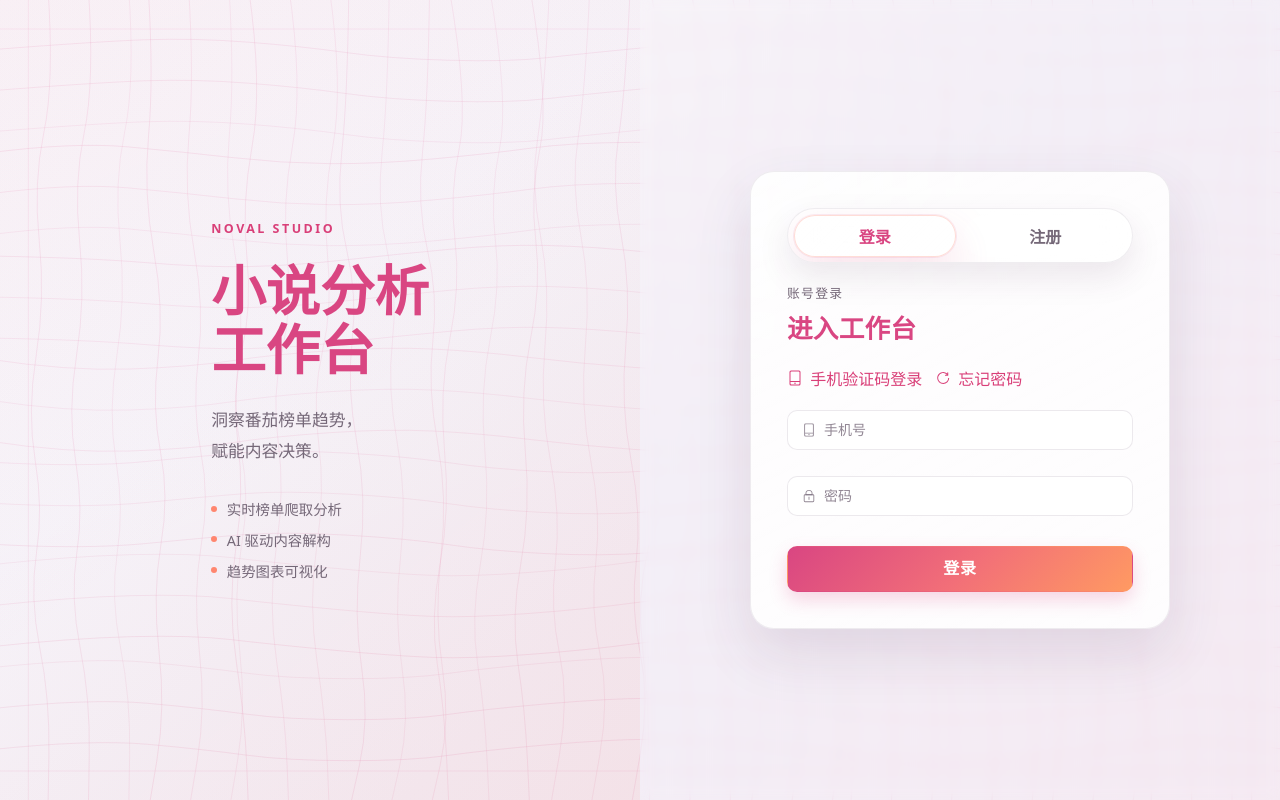
LoginView › reset password submits phone, sms code and new password then returns to password login
Click the button with test id "auth-mode-reset": {"x": 979, "y": 378} [935,366,1022,390]
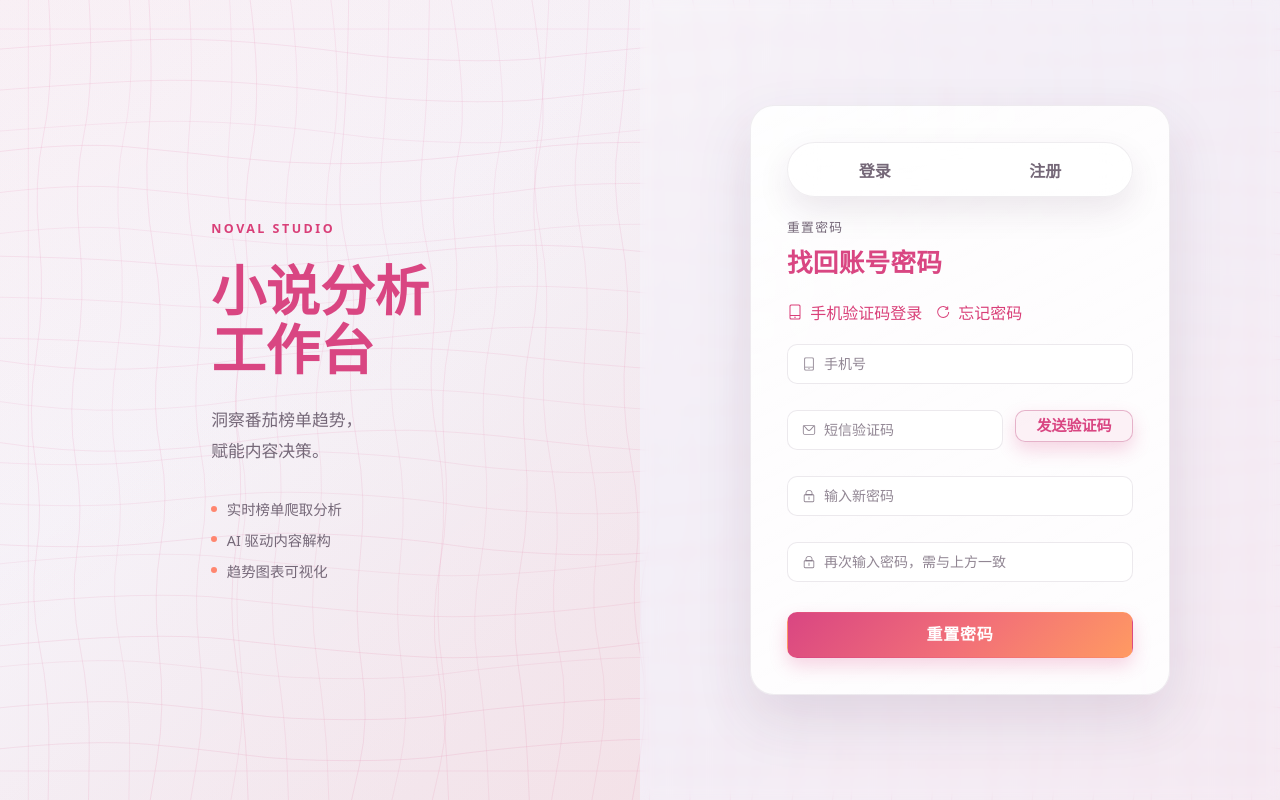
In the field with test id "login-phone": {"x": 971, "y": 364} [824,345,1118,383], type "13800138000"
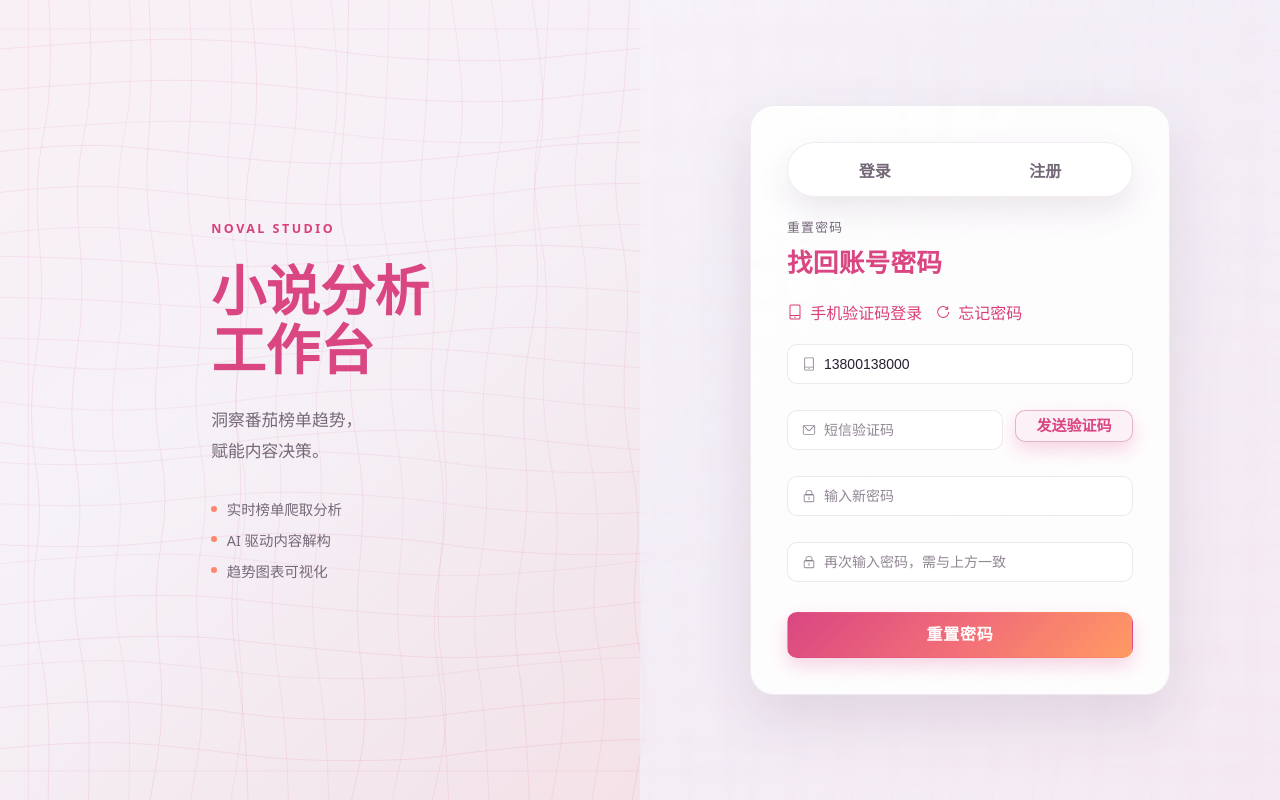
In the field with test id "login-sms-code": {"x": 906, "y": 430} [824,411,988,449], type "123456"
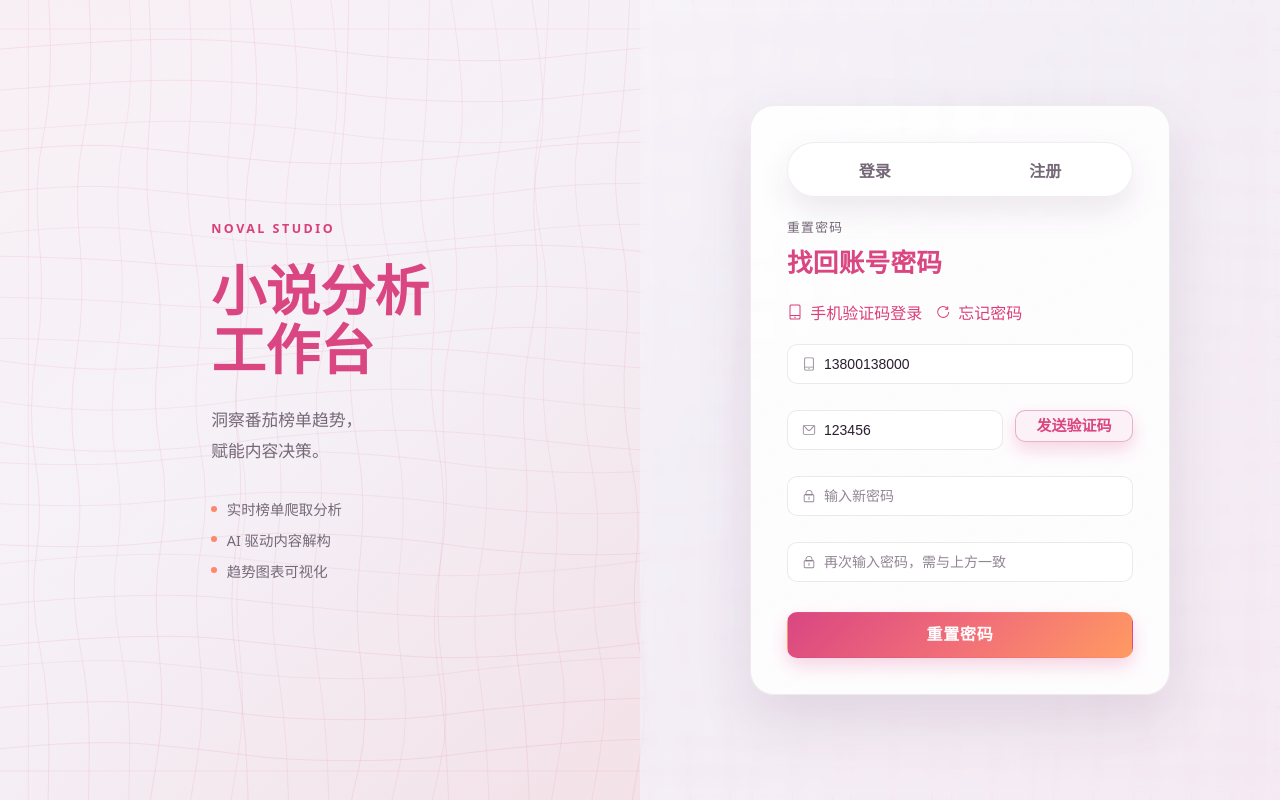
In the password field with test id "login-password": {"x": 971, "y": 496} [824,477,1118,515], type "NewPassword123"
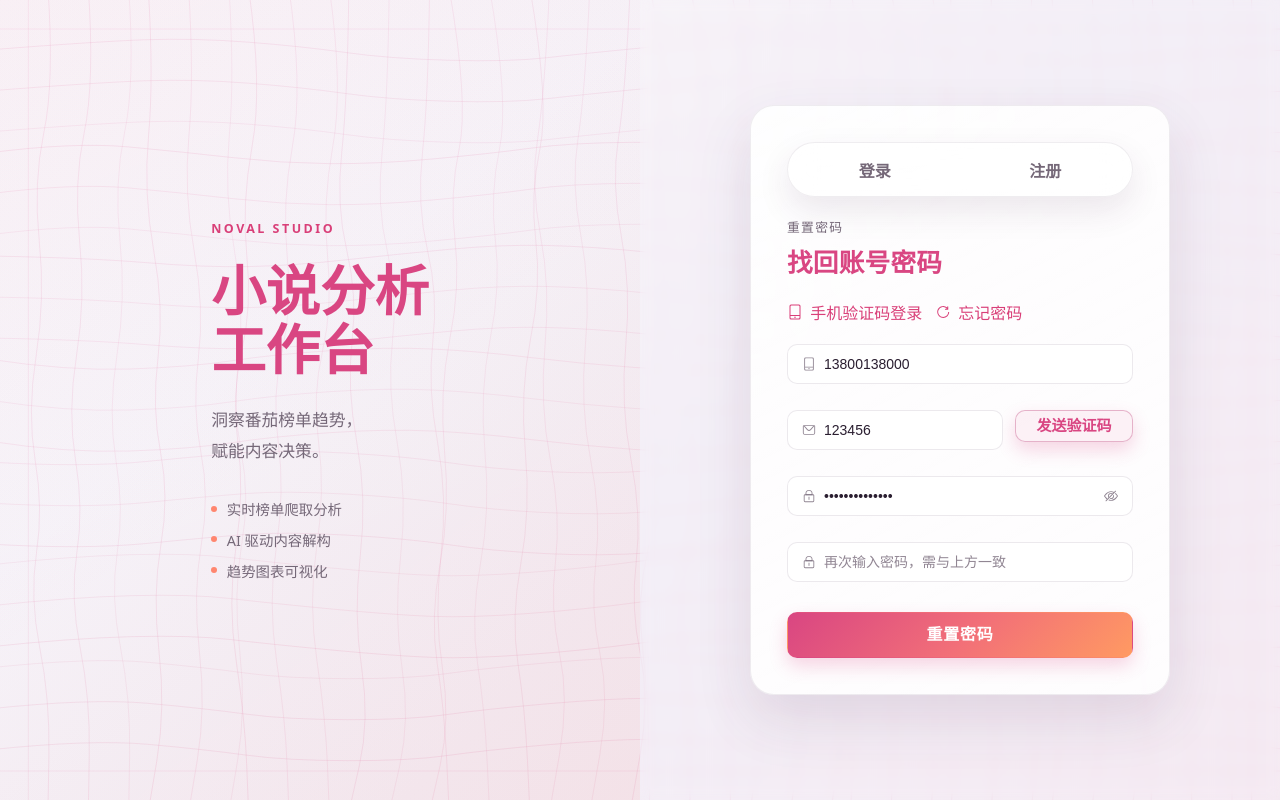
In the password field with test id "register-confirm-password": {"x": 971, "y": 562} [824,543,1118,581], type "NewPassword123"
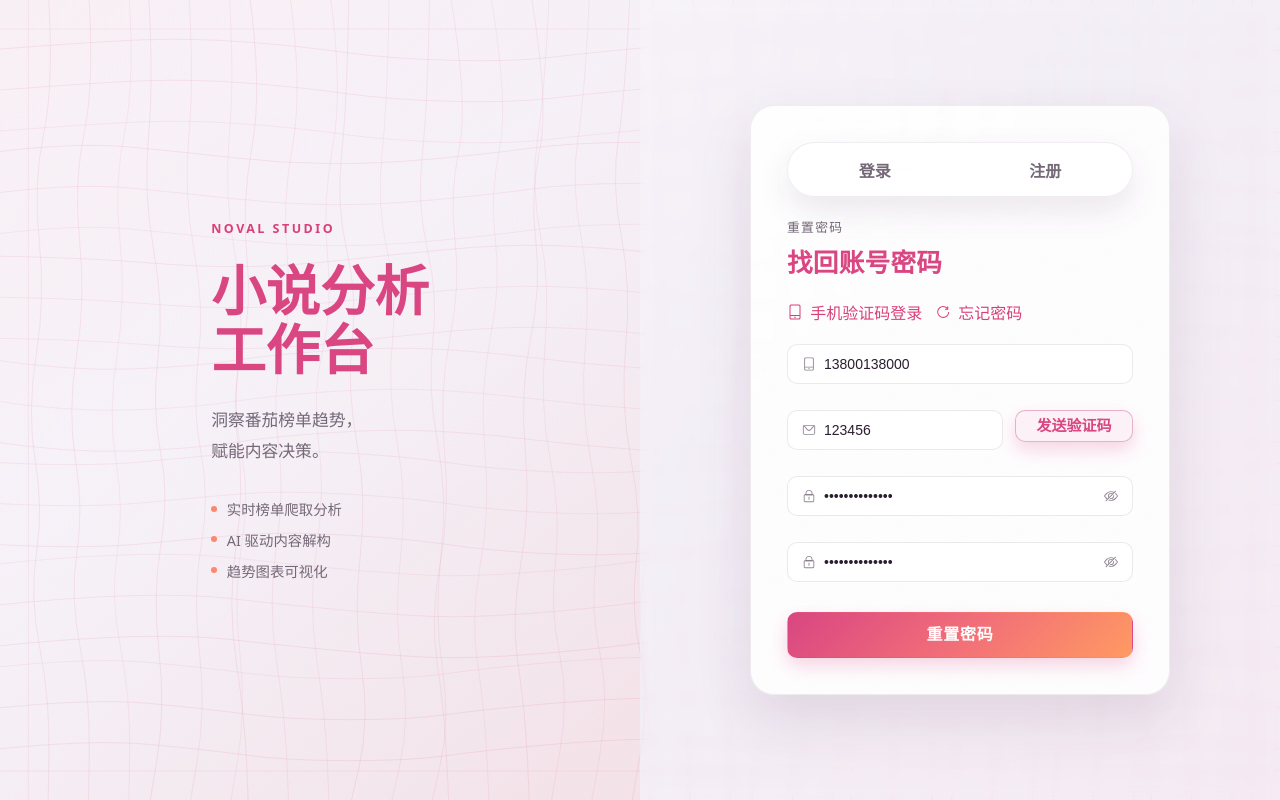
Submit the form, box [787,344,1133,658]
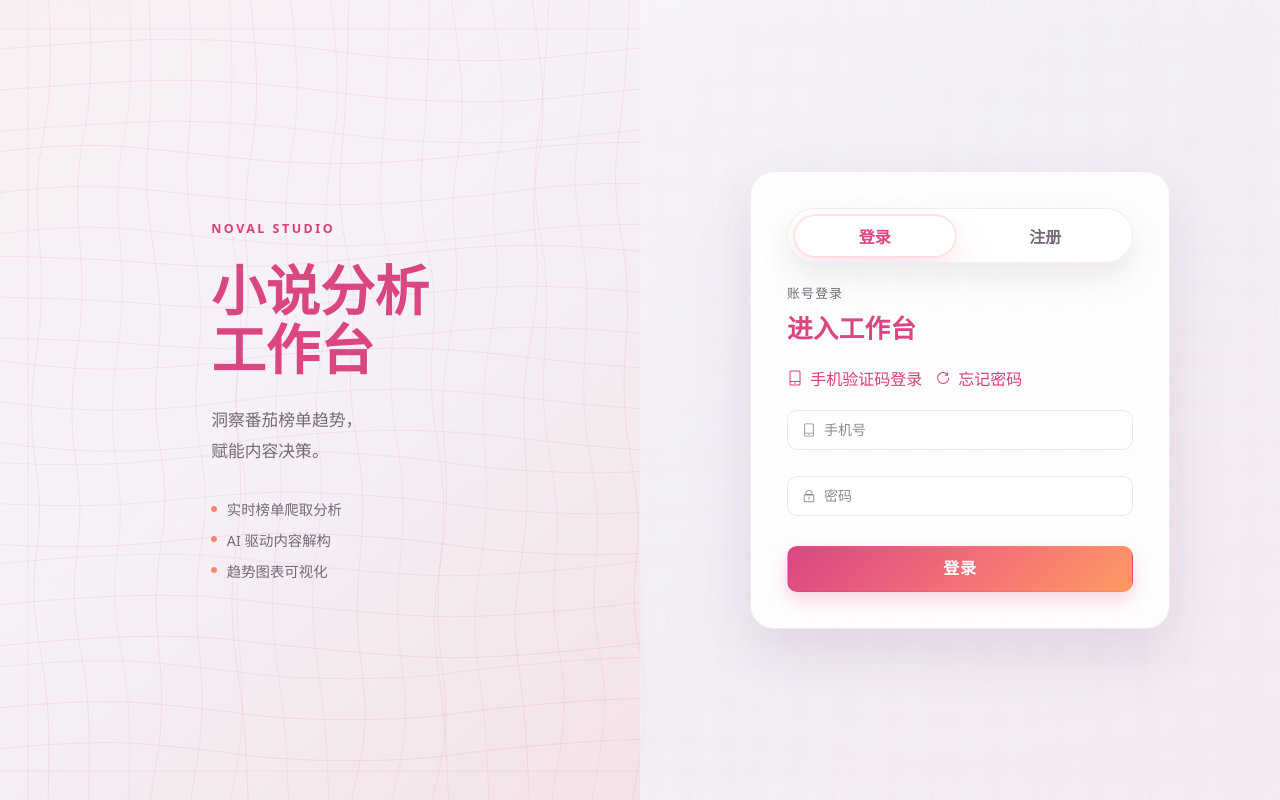
Result: the text "账号登录" is shown at [787,284,843,302]
